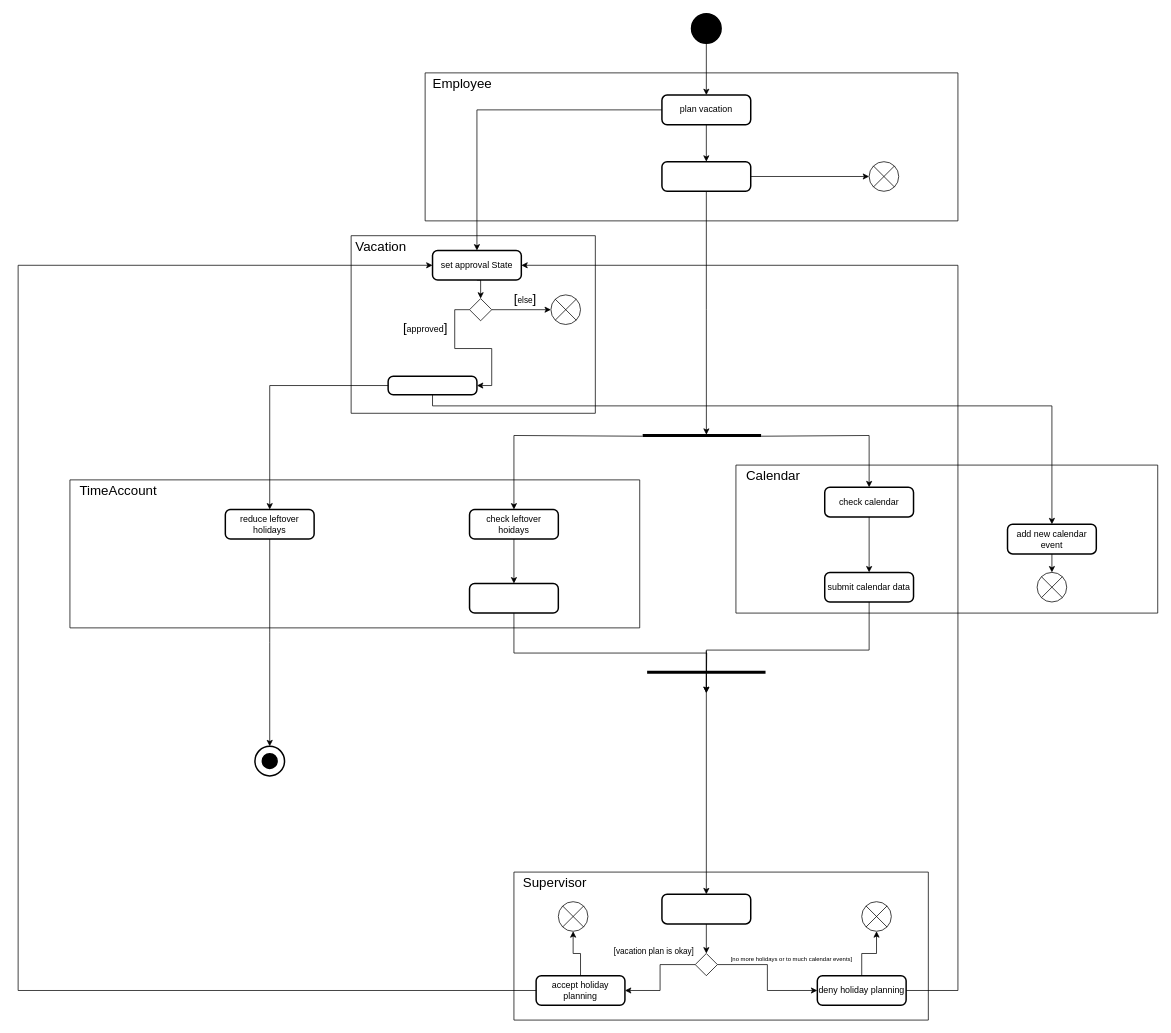
Some shapes in this 1171 by 1033 pixel diagram are drawn without their labels. Here are the shapes that lost their labels. From the top down, the centre of each, then its label:
At pixel 706 176: "submit vacation plan".
At pixel 432 385: "create calendar event".
At pixel 513 597: "submit leftover holidays".
At pixel 706 908: "check calendar & leftover holidays".
